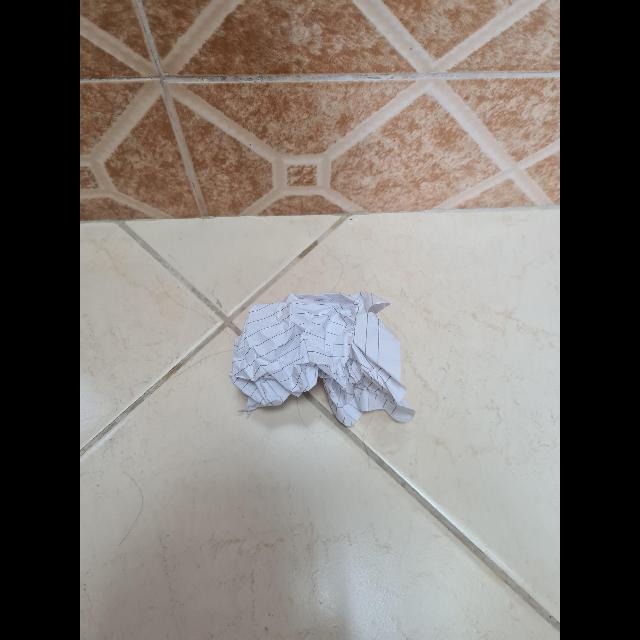scrap_paper: (238, 291, 404, 427)
